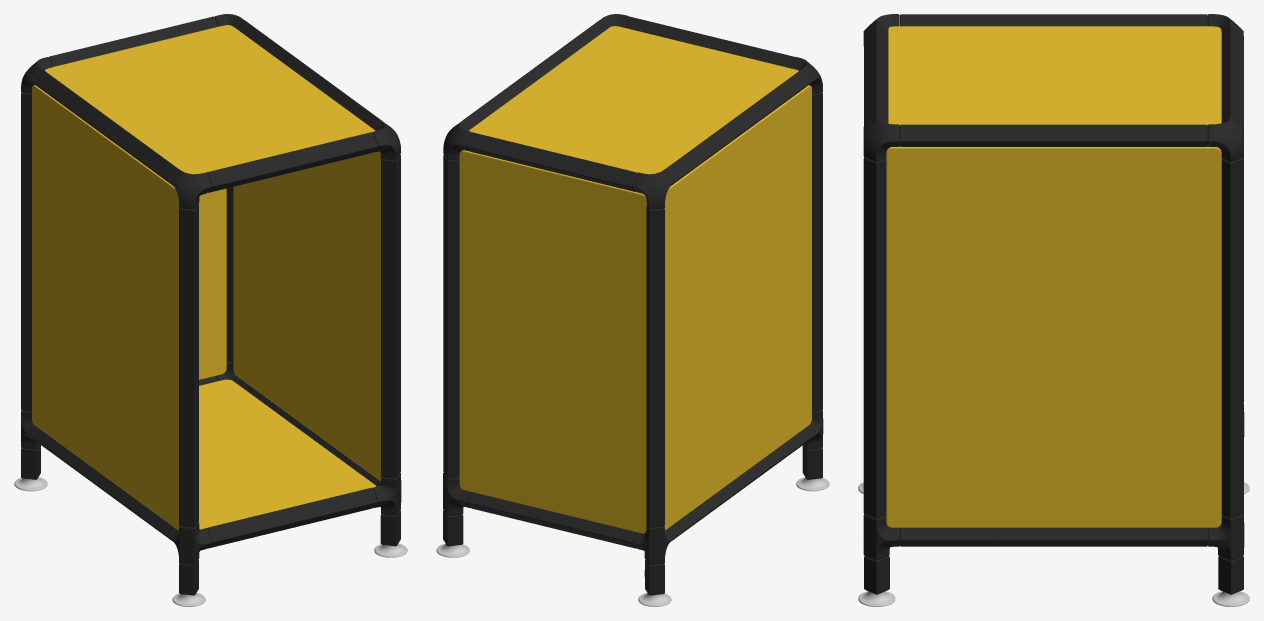
3 renders of one model, left to right at view 1: azimuth 30°, elevation 25°; view 2: azimuth 150°, elevation 25°; view 3: azimuth 270°, elevation 25°, orthographic. The views are drawn at different scales.
Parts seen in each view (by area): view 1: 229x329x420; view 2: 229x329x420; view 3: 229x329x420.
Boxes of the visible parts, bbox=[...] form: 229x329x420: bbox=[14, 14, 407, 606]; 229x329x420: bbox=[436, 14, 829, 606]; 229x329x420: bbox=[858, 14, 1249, 606].
Bounding box in the file's own units: 0.3189 × 0.5593 × 0.4182.
